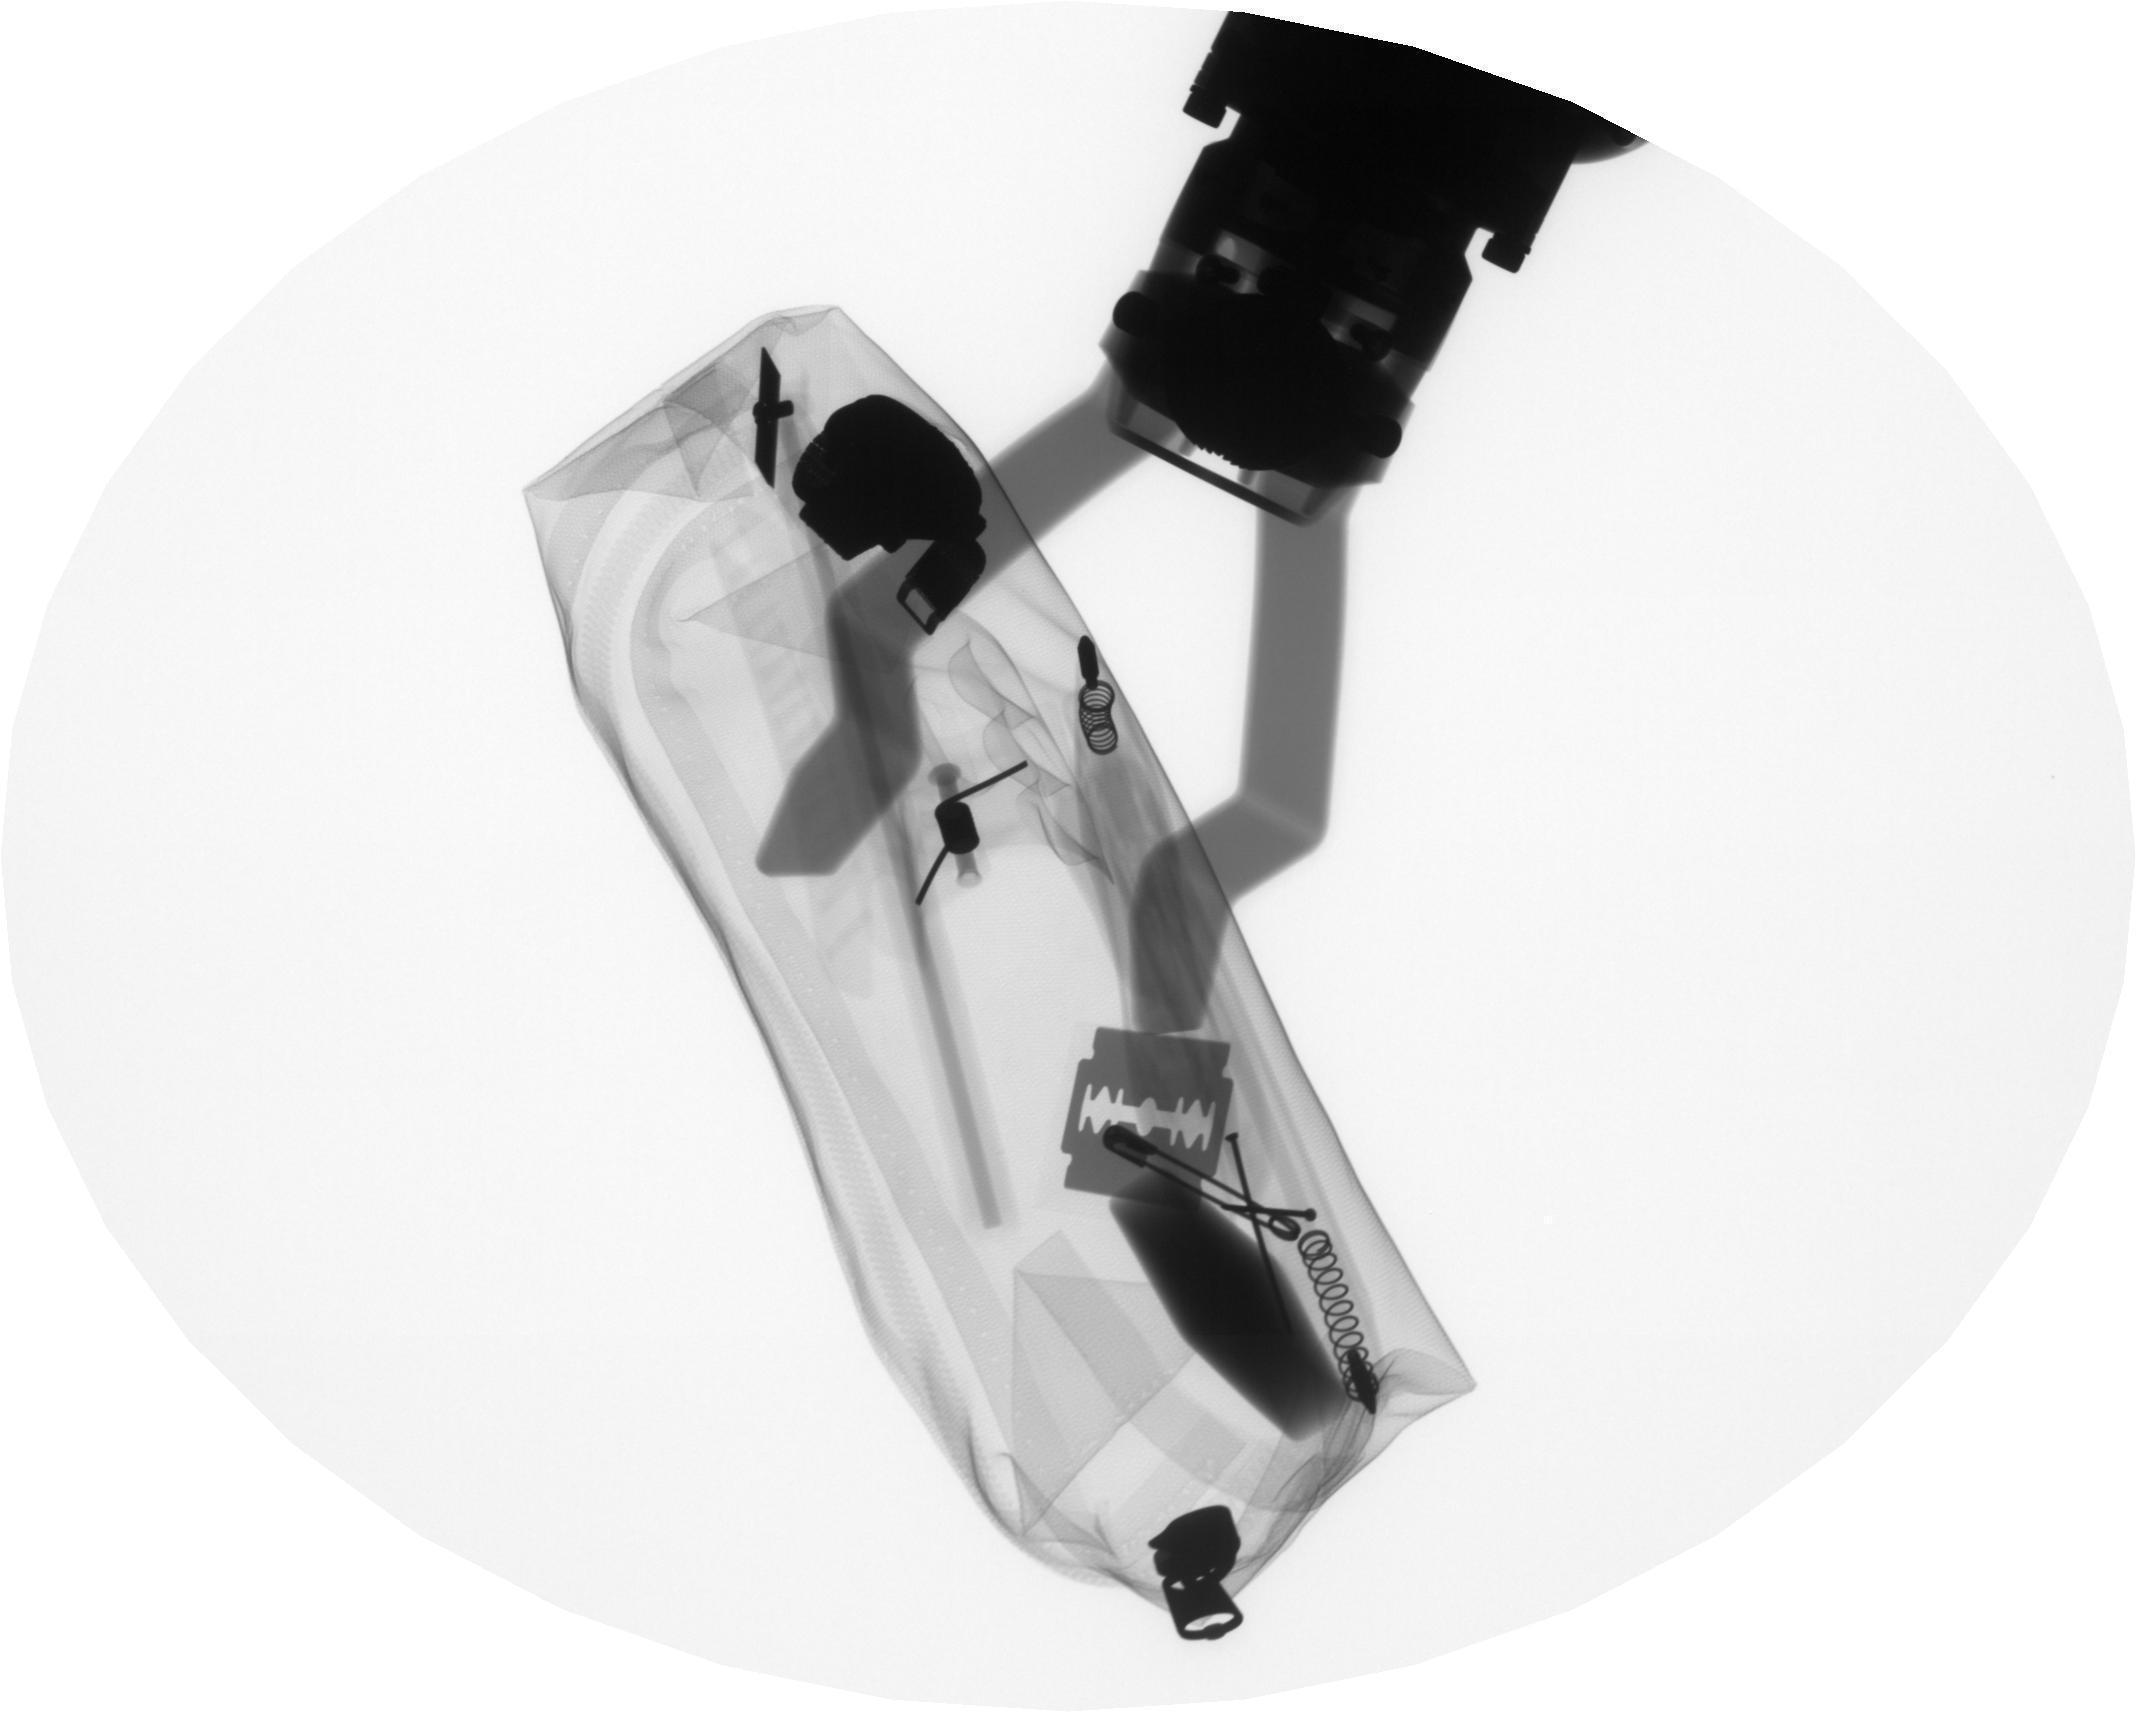RazorBlade: (1023, 1010, 1249, 1218)
